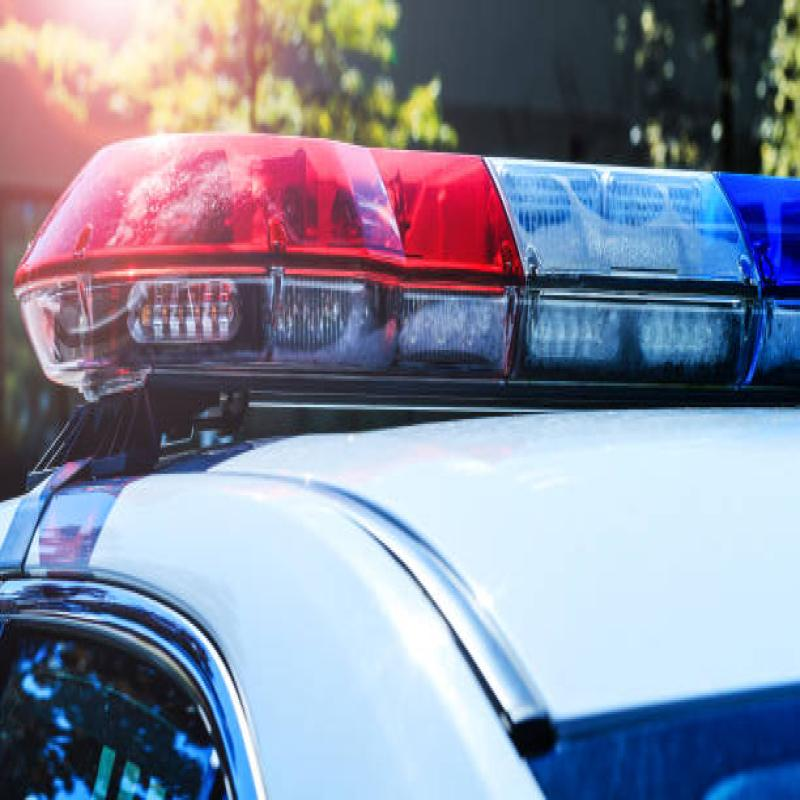AmbulanceSiren: (42, 96, 774, 469)
